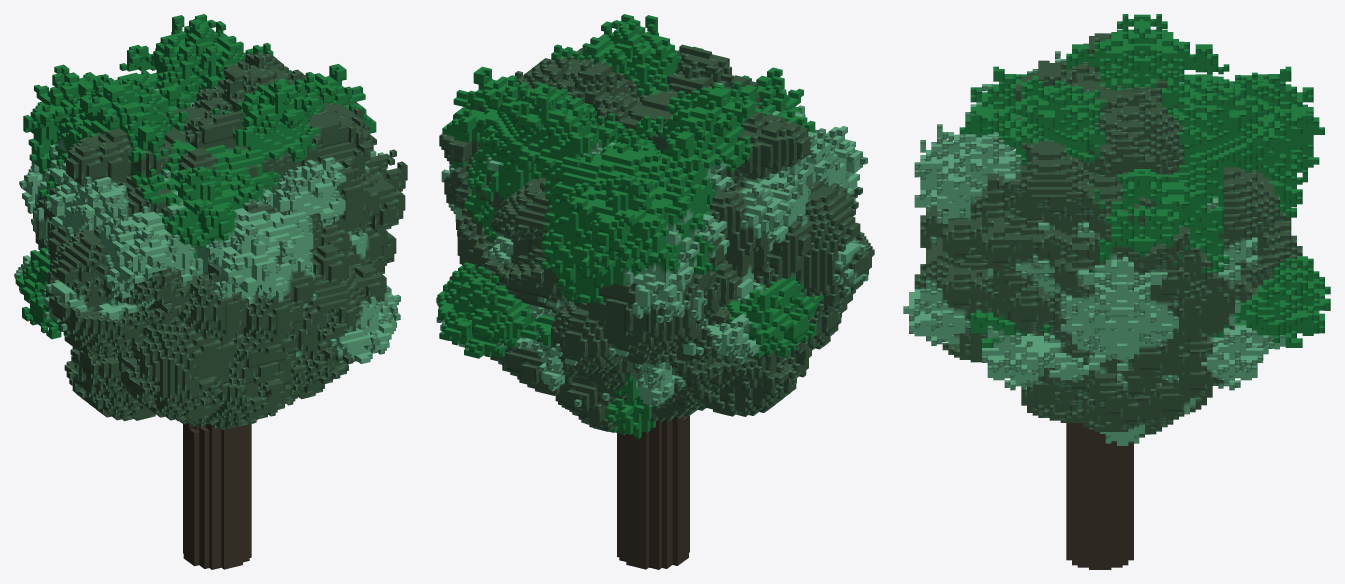
File: Arbol_02.obj
3 renders of one model, left to right at view 1: azimuth 30°, elevation 25°; view 2: azimuth 150°, elevation 25°; view 3: azimuth 270°, elevation 25°, orthographic. The views are drawn at different scales.
Visible parts, largest first — view 1: Content; view 2: Content; view 3: Content.
Part boxes in pixels (x1=…): Content: x1=14, y1=14, x2=407, y2=569; Content: x1=436, y1=14, x2=874, y2=569; Content: x1=903, y1=14, x2=1330, y2=569.
Size of the model in its own units: 5.47 by 6.98 by 5.47.
